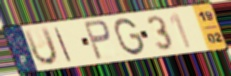1: (169, 11, 192, 50)
3: (146, 14, 174, 52)
G: (113, 17, 146, 57)
I: (53, 26, 74, 63)
P: (81, 18, 113, 62)
U: (22, 25, 60, 67)
